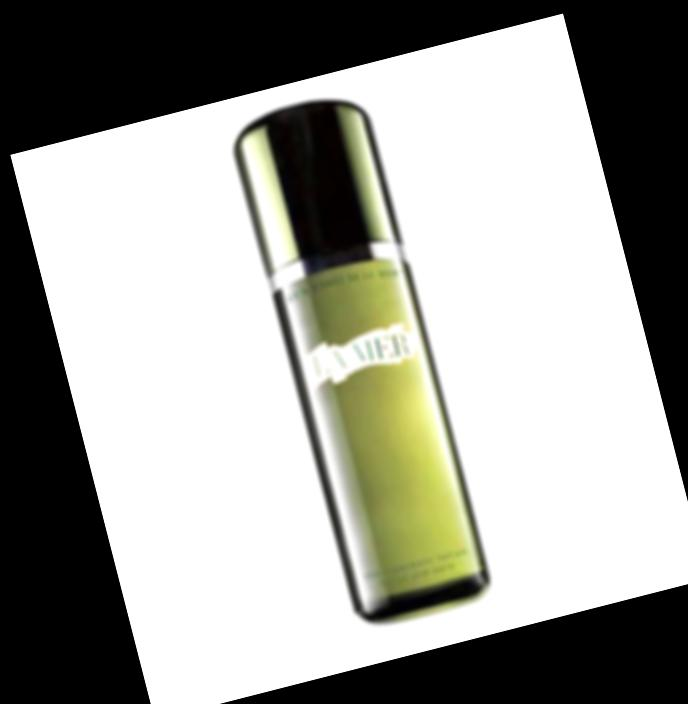cosmetic: (229, 91, 501, 629)
